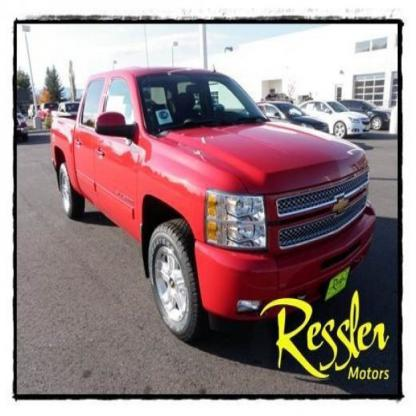Vehicle: (52, 70, 375, 340)
